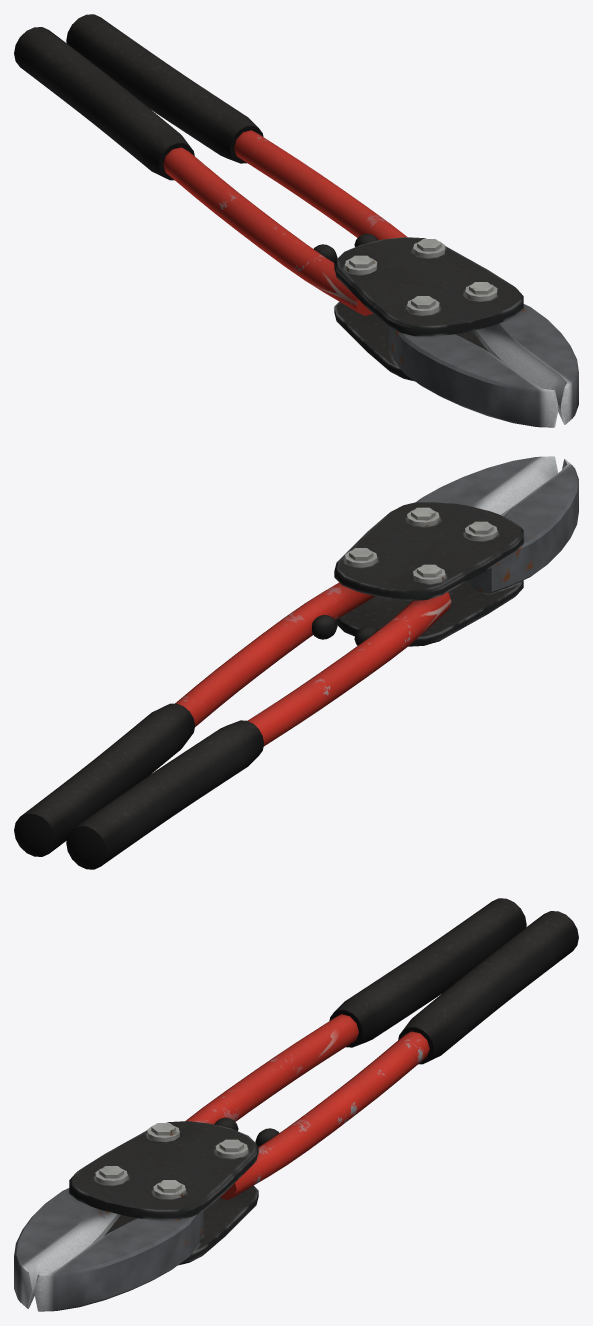
File: BoltCutters.fbx
3 views of the same model, one above another, from view 1: azimuth 30°, elevation 25°; view 2: azimuth 150°, elevation 25°; view 3: azimuth 330°, elevation 25° (orthographic).
Parts seen in each view (by area): view 1: BoltCutters; view 2: BoltCutters; view 3: BoltCutters.
Boxes of the visible parts, bbox=[...] form: BoltCutters: bbox=[14, 14, 578, 427]; BoltCutters: bbox=[14, 456, 578, 869]; BoltCutters: bbox=[14, 898, 578, 1311].
Size of the model in its own units: 0.38 by 0.1956 by 2.57.
1 material, 1 textured.
